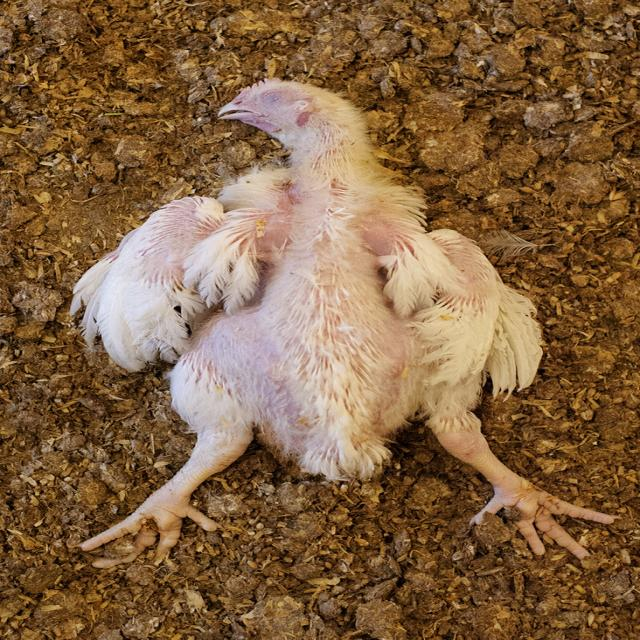Chicken: (68, 88, 547, 602)
